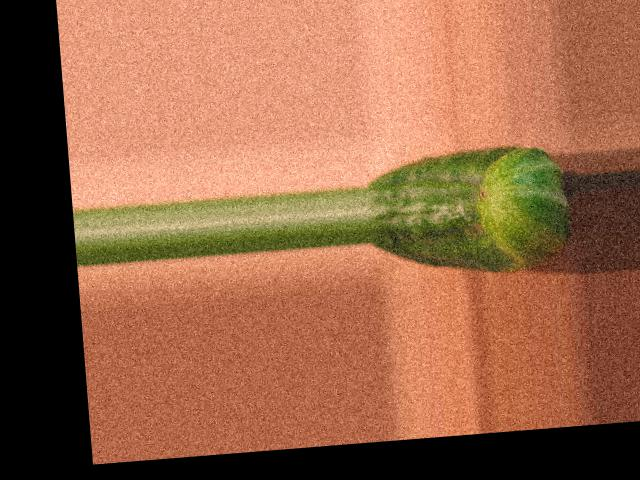cucumber: (364, 141, 572, 282)
